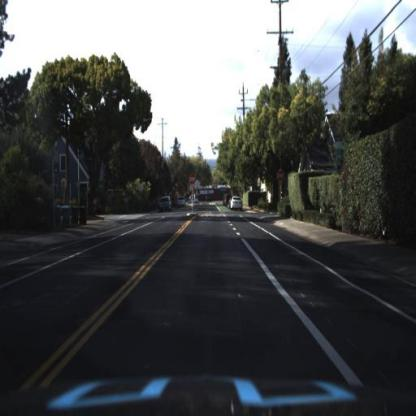car: (159, 194, 172, 213), (232, 196, 242, 211)
